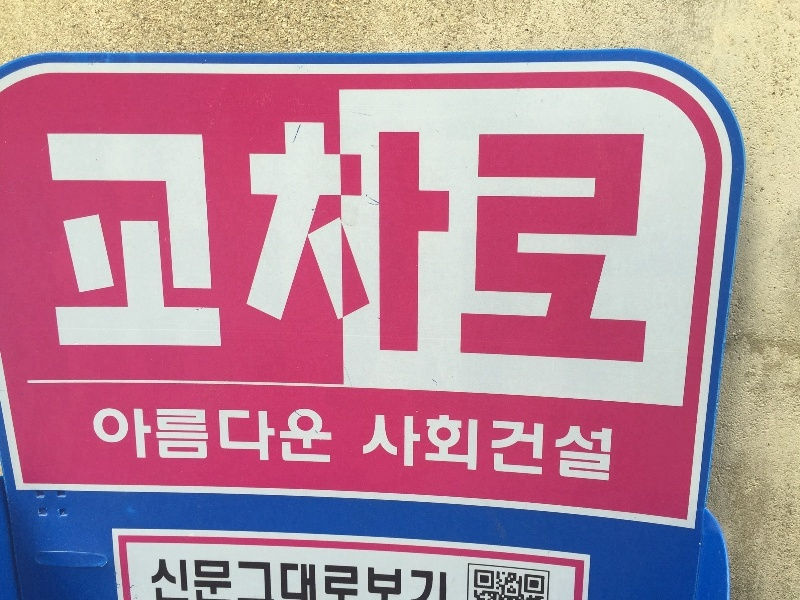text: (49, 114, 64, 363), (65, 114, 80, 363), (81, 114, 96, 363), (97, 114, 112, 363), (113, 114, 128, 363), (129, 114, 144, 363), (145, 114, 160, 363), (161, 114, 176, 363), (177, 114, 192, 363), (193, 114, 208, 363), (209, 114, 224, 363), (225, 114, 240, 363), (241, 114, 256, 363), (257, 114, 272, 363), (273, 114, 288, 363), (289, 114, 304, 363), (305, 114, 320, 363), (321, 114, 336, 363), (337, 114, 352, 363), (353, 114, 368, 363), (369, 114, 384, 363), (385, 114, 400, 363), (401, 114, 416, 363), (417, 114, 432, 363), (433, 114, 448, 363), (449, 114, 464, 363), (465, 114, 480, 363), (481, 114, 496, 363), (497, 114, 512, 363), (513, 114, 528, 363), (529, 114, 544, 363), (545, 114, 560, 363), (561, 114, 576, 363), (577, 114, 592, 363), (593, 114, 608, 363), (609, 114, 624, 363), (625, 114, 640, 363), (641, 114, 648, 363), (385, 409, 400, 482), (401, 409, 416, 482), (417, 409, 432, 482), (433, 409, 448, 482), (449, 409, 464, 482), (465, 409, 480, 482), (481, 409, 496, 482), (497, 409, 512, 482), (513, 409, 528, 482), (529, 409, 544, 482), (545, 409, 560, 482), (561, 409, 576, 482), (577, 409, 592, 482), (593, 409, 608, 482), (97, 410, 112, 469), (113, 410, 128, 469), (129, 410, 144, 469), (145, 410, 160, 469), (161, 410, 176, 469), (177, 410, 192, 469), (193, 410, 208, 469), (209, 410, 224, 469), (225, 410, 240, 469), (241, 410, 256, 469), (257, 410, 272, 469), (273, 410, 288, 469), (289, 410, 304, 469), (305, 410, 320, 469), (321, 410, 334, 469), (161, 560, 176, 600), (177, 560, 192, 600), (193, 560, 208, 600), (209, 560, 224, 600), (225, 560, 240, 600), (241, 560, 256, 600), (257, 560, 272, 600), (273, 560, 288, 600), (289, 560, 304, 600), (305, 560, 320, 600), (321, 560, 336, 600), (337, 560, 352, 600), (353, 560, 368, 600), (369, 560, 384, 600), (385, 560, 400, 600), (401, 560, 416, 600), (417, 560, 432, 600), (433, 560, 448, 600), (377, 409, 384, 482), (91, 410, 96, 469), (609, 409, 613, 482), (153, 560, 160, 600), (47, 114, 48, 363), (449, 560, 454, 600)
